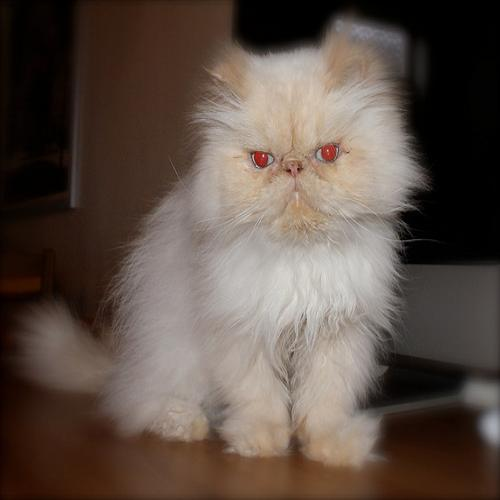persian: (186, 33, 422, 258)
